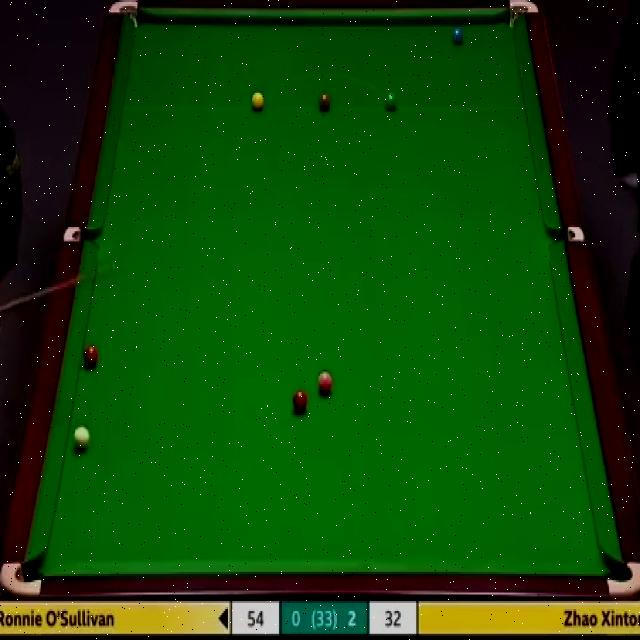blue-ball: (450, 26, 465, 46)
brown-ball: (318, 93, 331, 110)
green-ball: (384, 89, 398, 113)
pink-ball: (316, 370, 334, 394)
red-ball: (83, 344, 99, 367), (292, 388, 307, 412)
white-ball: (73, 426, 90, 451)
yellow-ball: (250, 90, 265, 111)
